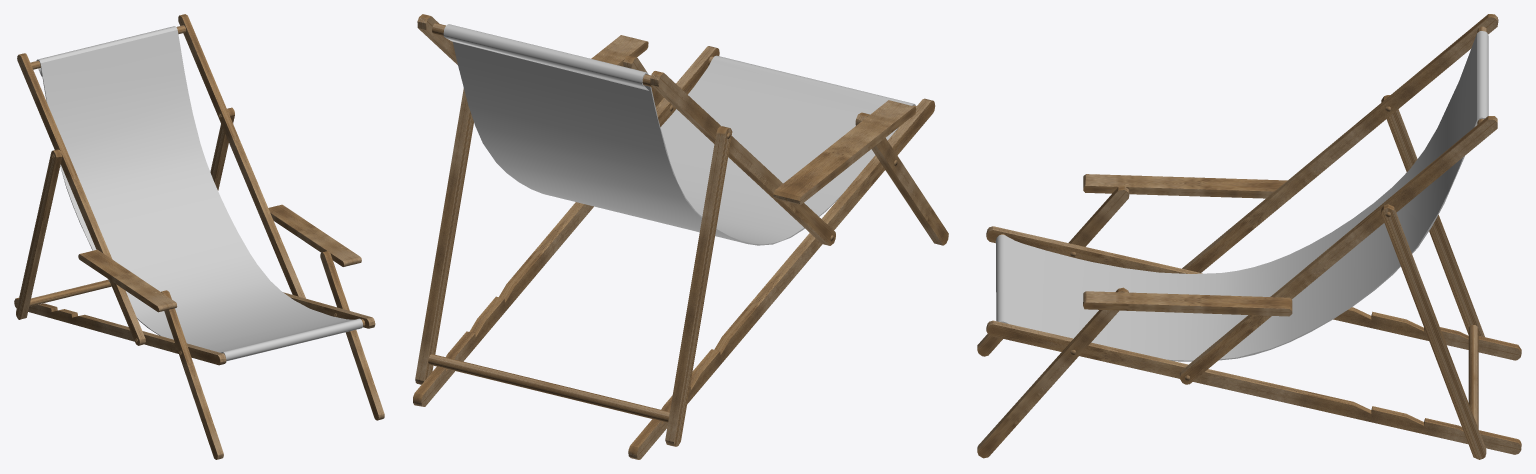
The model's file is Deck chair.FBX.
The picture shows the model from 3 angles, left to right: view 1: azimuth 30°, elevation 25°; view 2: azimuth 150°, elevation 25°; view 3: azimuth 270°, elevation 25°; orthographic projection. The views are drawn at different scales.
Parts seen in each view (by area): view 1: deck chair; view 2: deck chair; view 3: deck chair.
Boxes of the visible parts, box(x1,y1,x2,y2) form: deck chair: box(14, 14, 384, 459); deck chair: box(413, 14, 948, 459); deck chair: box(977, 14, 1521, 459).
Bounding box in the file's own units: 78.37 × 96.64 × 140.
